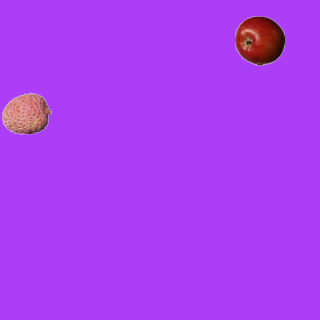Apple Braeburn: (234, 15, 284, 65)
Lychee: (1, 88, 51, 138)
